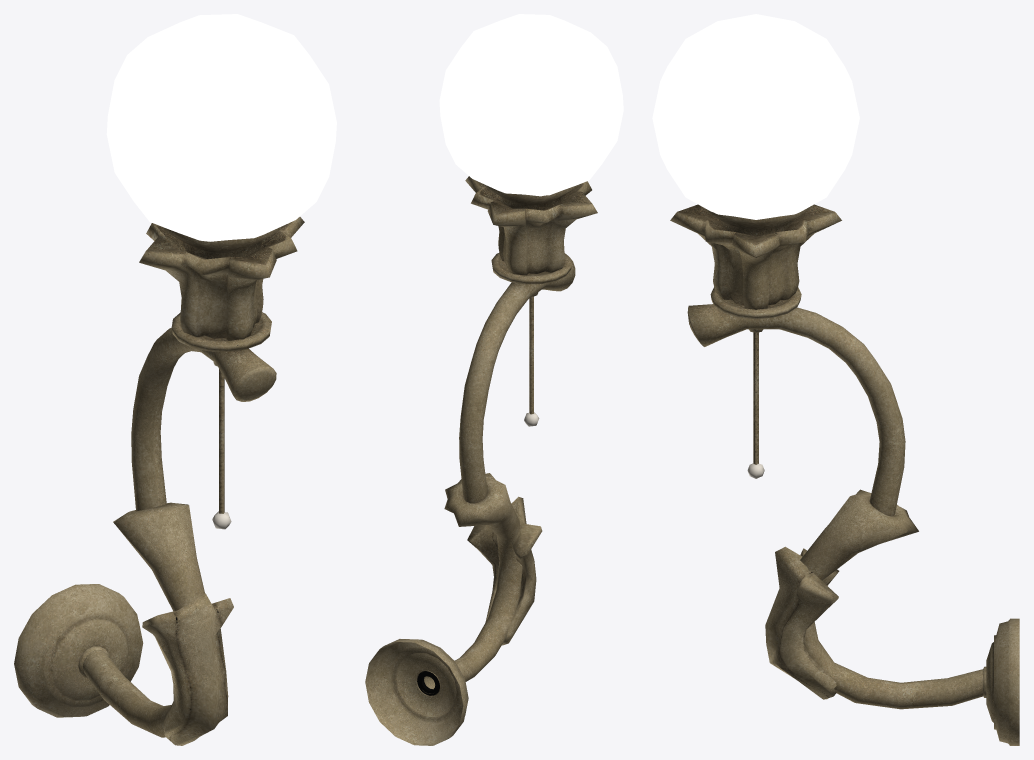
The model's file is sconce.glb.
The picture shows the model from 3 angles, left to right: view 1: azimuth 30°, elevation 25°; view 2: azimuth 150°, elevation 25°; view 3: azimuth 270°, elevation 25°; orthographic projection. The views are drawn at different scales.
Parts seen in each view (by area): view 1: Circle.002; view 2: Circle.002; view 3: Circle.002.
Part boxes in pixels (x1,y1,x2,y2): Circle.002: (14, 14, 336, 745); Circle.002: (365, 14, 623, 745); Circle.002: (652, 14, 1019, 745).
Bounding box in the file's own units: 0.3024 × 1.15 × 0.5349.
1 material, 1 textured.
